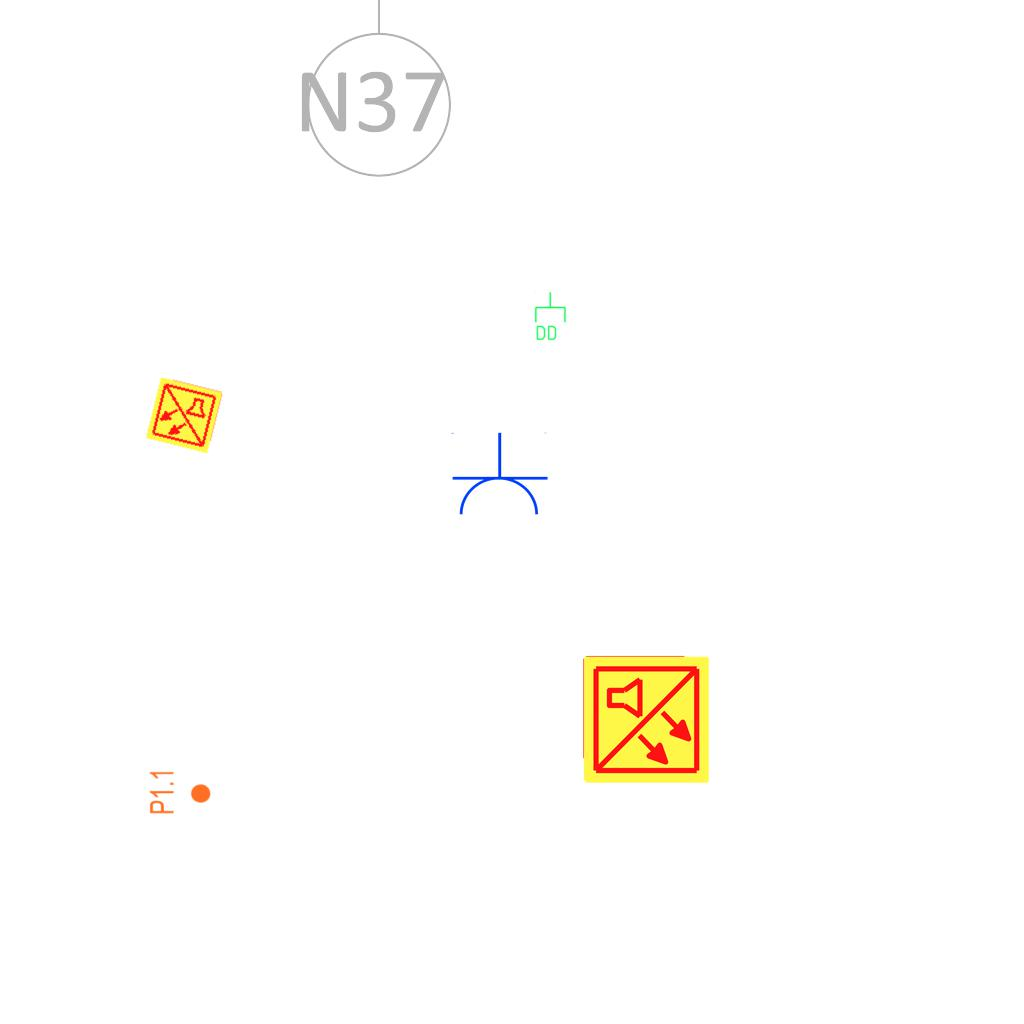Datenanschluss_zweifach: (533, 291, 567, 342)
Downlight_LED_Einbauleuchten_Flur: (148, 769, 212, 815)
OKW_Multisensormelder_(Kombination_optischer_Rauch-Kahlenmonoxid_Waerme-Melder): (580, 654, 712, 786), (143, 374, 225, 456)
Schukosteckdose_einfach: (449, 432, 549, 519)
